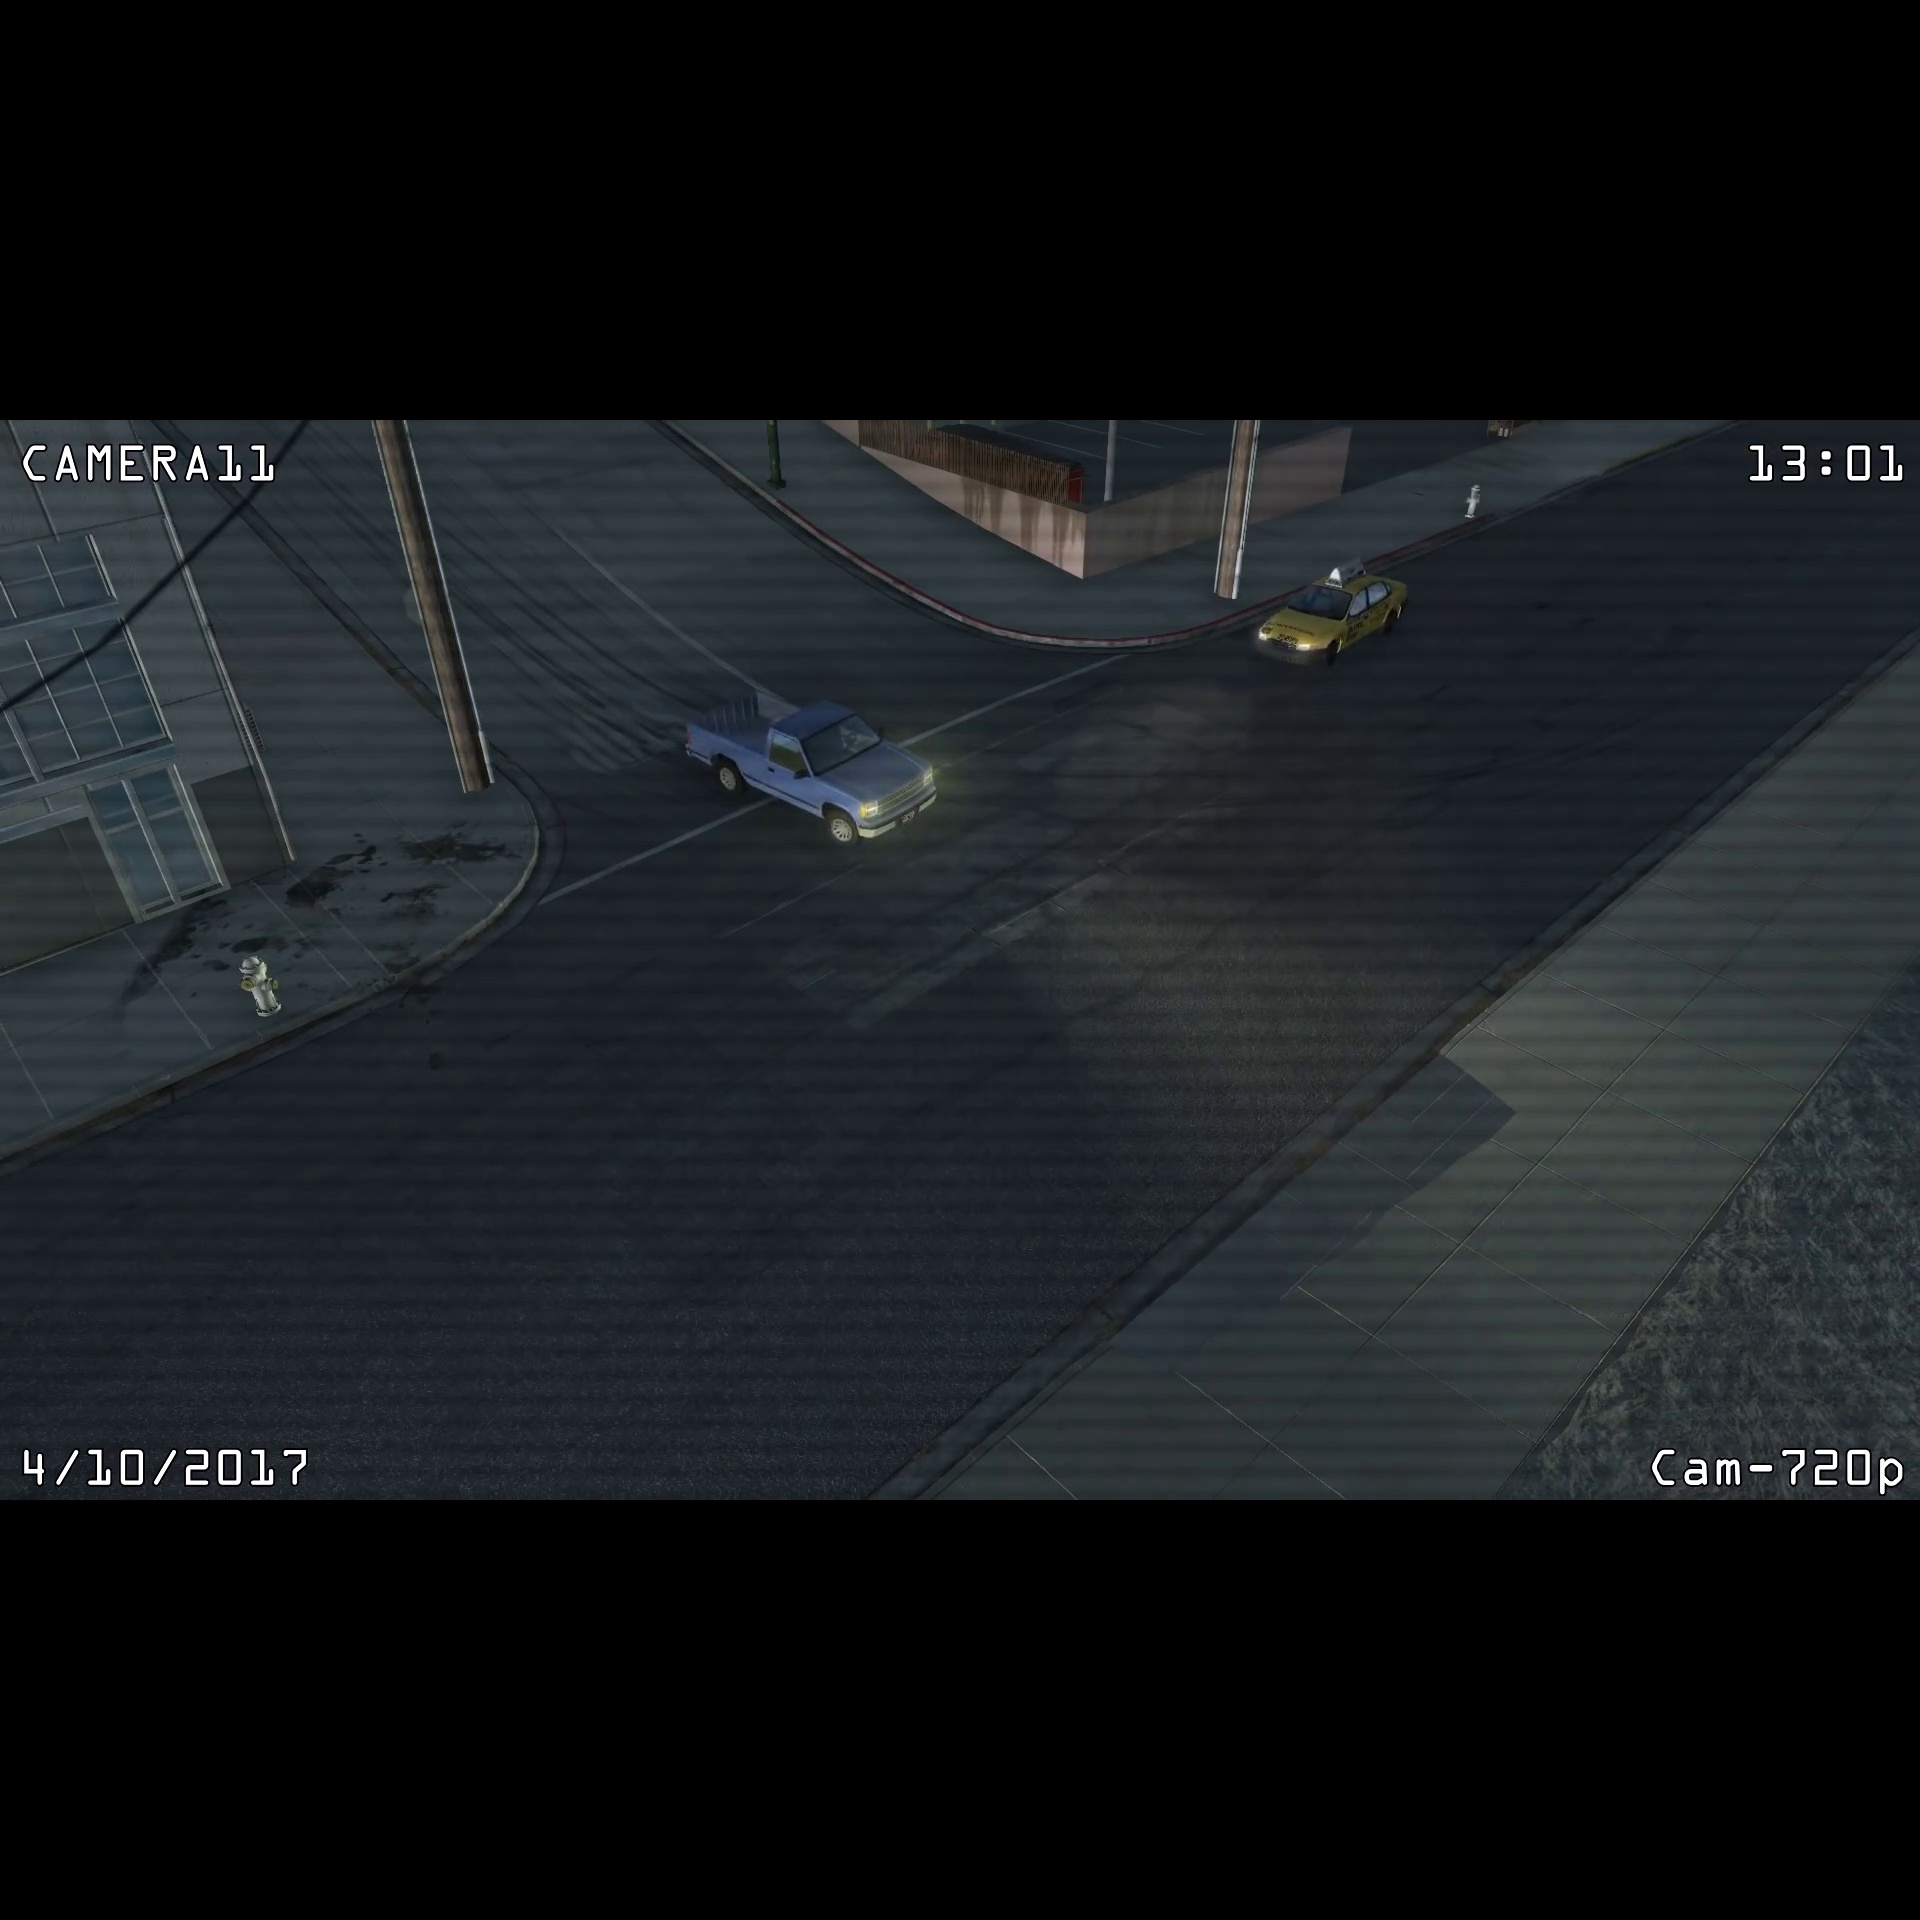vehicle: (673, 682, 951, 853), (1254, 556, 1412, 673)
